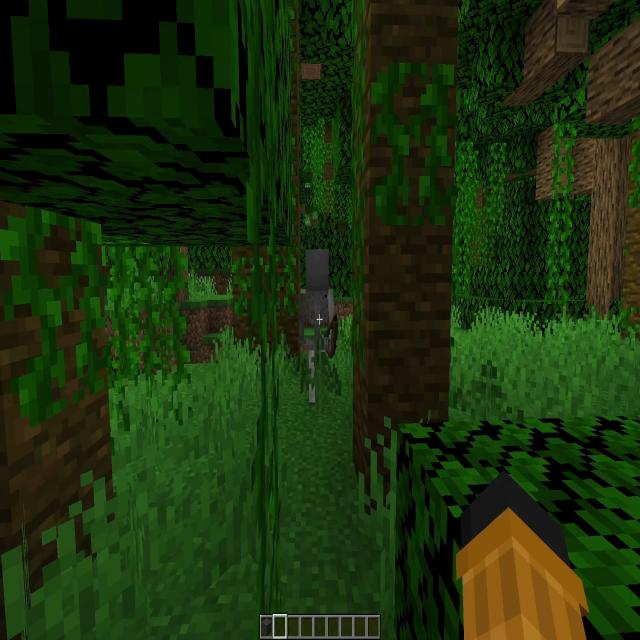Skeleton: (304, 249, 334, 406)
